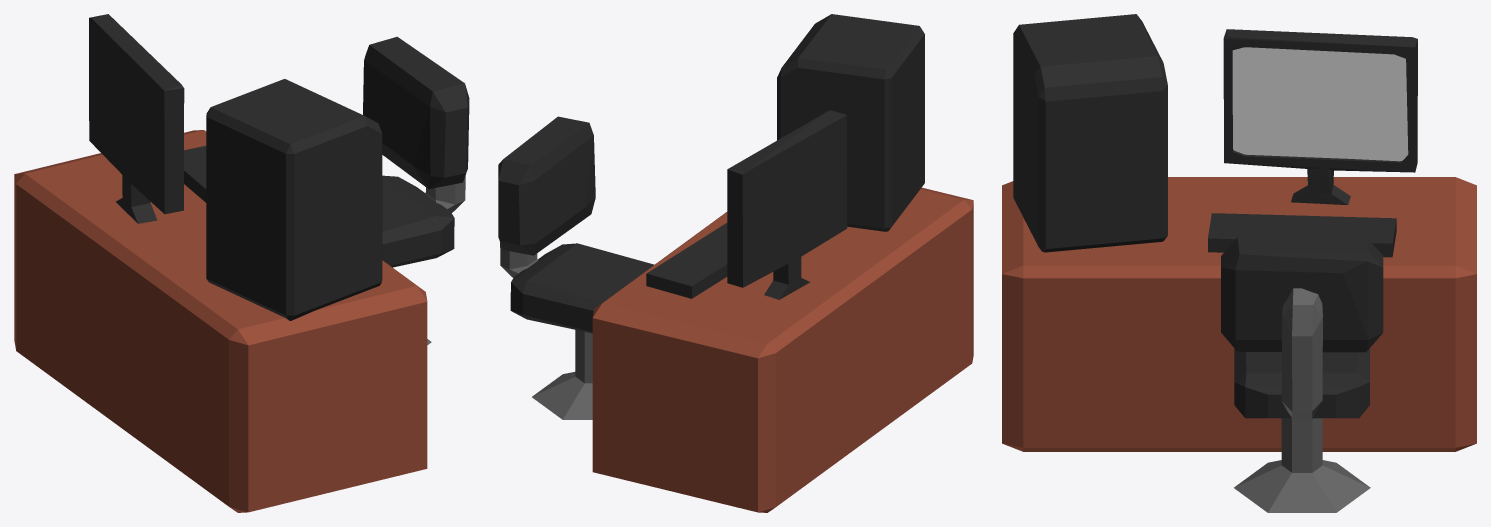
The model's file is officeDesk.fbx.
3 views of the same model, side by side, from view 1: azimuth 30°, elevation 25°; view 2: azimuth 150°, elevation 25°; view 3: azimuth 270°, elevation 25° (orthographic). The views are drawn at different scales.
Visible parts, largest first — view 1: Cube, Cube.001, Cylinder.001, Plane, Cube.002; view 2: Cube, Cylinder.001, Cube.001, Plane, Cube.002; view 3: Cube, Cylinder.001, Cube.001, Plane, Cube.002.
Part boxes in pixels (left/top/right/bottom): Cube: left=14, top=130, right=427, bottom=512; Cube.001: left=206, top=79, right=382, bottom=320; Cylinder.001: left=363, top=36, right=469, bottom=345; Plane: left=89, top=14, right=184, bottom=223; Cube.002: left=184, top=146, right=206, bottom=202; Cube: left=592, top=187, right=973, bottom=512; Cylinder.001: left=498, top=116, right=653, bottom=419; Cube.001: left=777, top=14, right=924, bottom=231; Plane: left=727, top=110, right=847, bottom=299; Cube.002: left=646, top=223, right=727, bottom=298; Cube: left=1002, top=177, right=1476, bottom=451; Cylinder.001: left=1221, top=236, right=1383, bottom=512; Cube.001: left=1013, top=14, right=1167, bottom=252; Plane: left=1223, top=29, right=1417, bottom=204; Cube.002: left=1208, top=213, right=1396, bottom=257.
Bounding box in the file's own units: 422 × 390 × 462.
